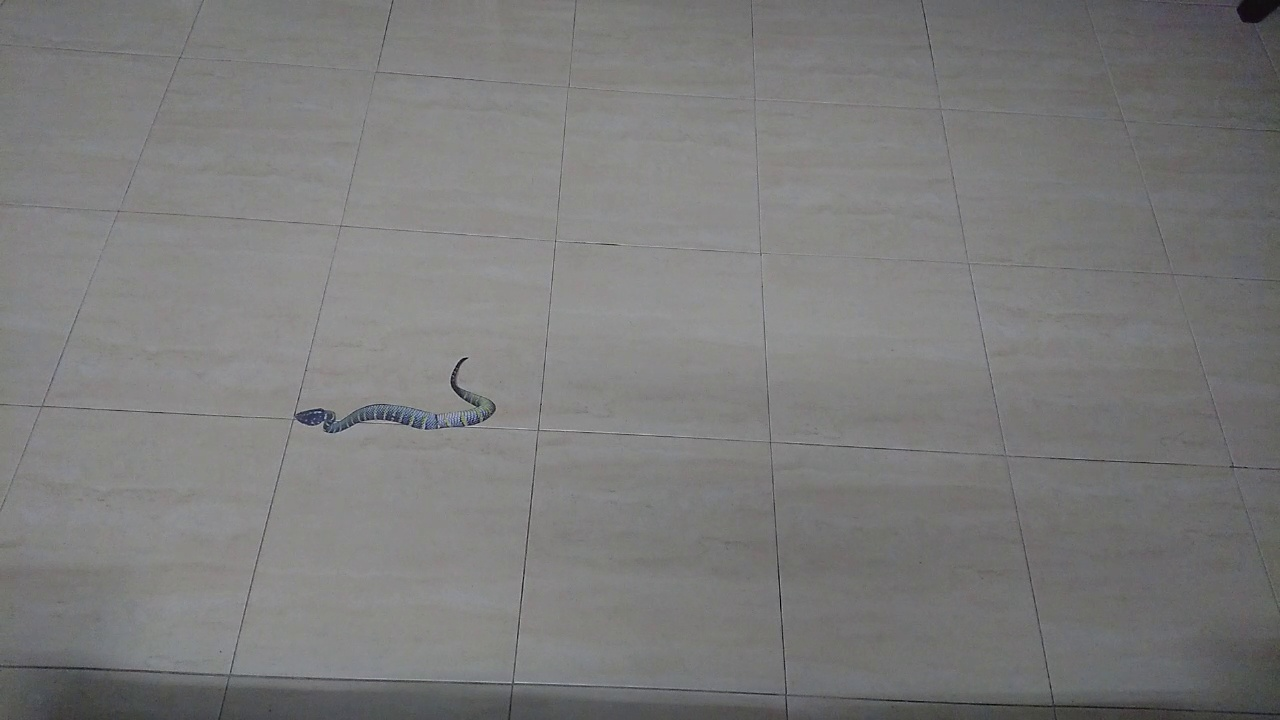snake: (277, 341, 520, 457)
